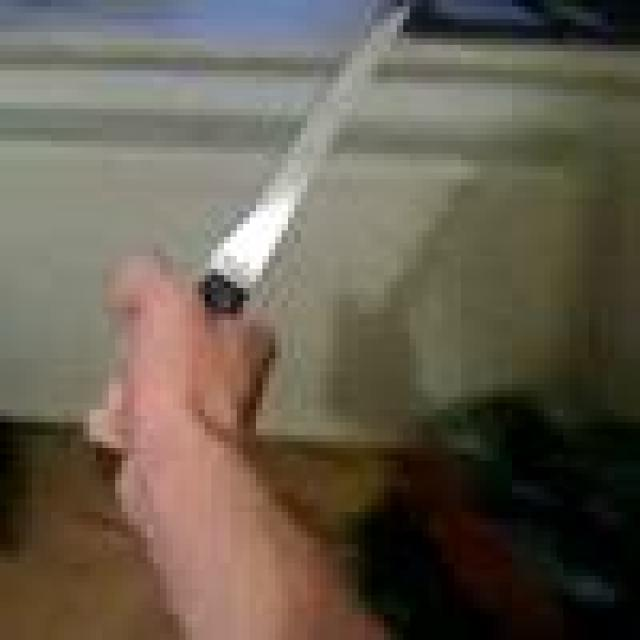knife: (200, 1, 412, 306)
